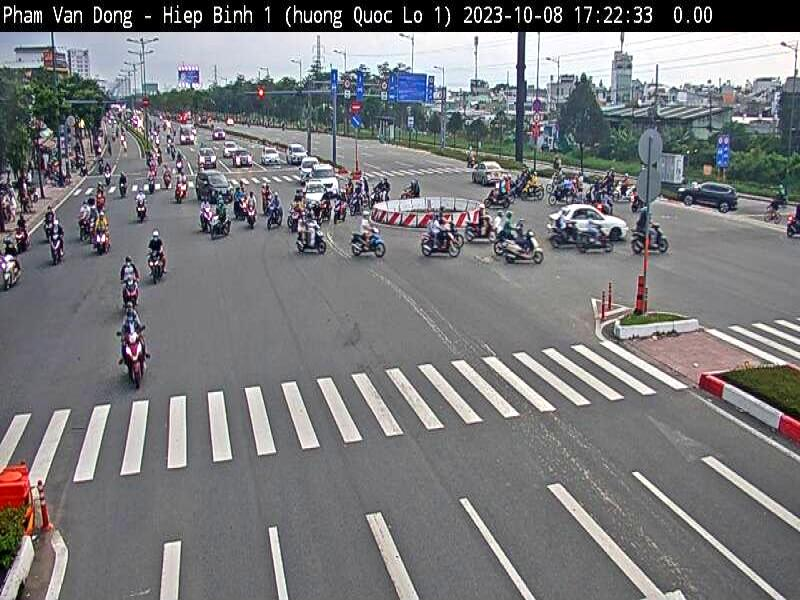car: (536, 188, 628, 262), (192, 162, 242, 208), (288, 178, 336, 216), (472, 154, 511, 188), (193, 139, 218, 175), (283, 136, 311, 166)
motorcycle: (87, 322, 179, 400), (490, 228, 550, 272), (344, 225, 400, 261)
